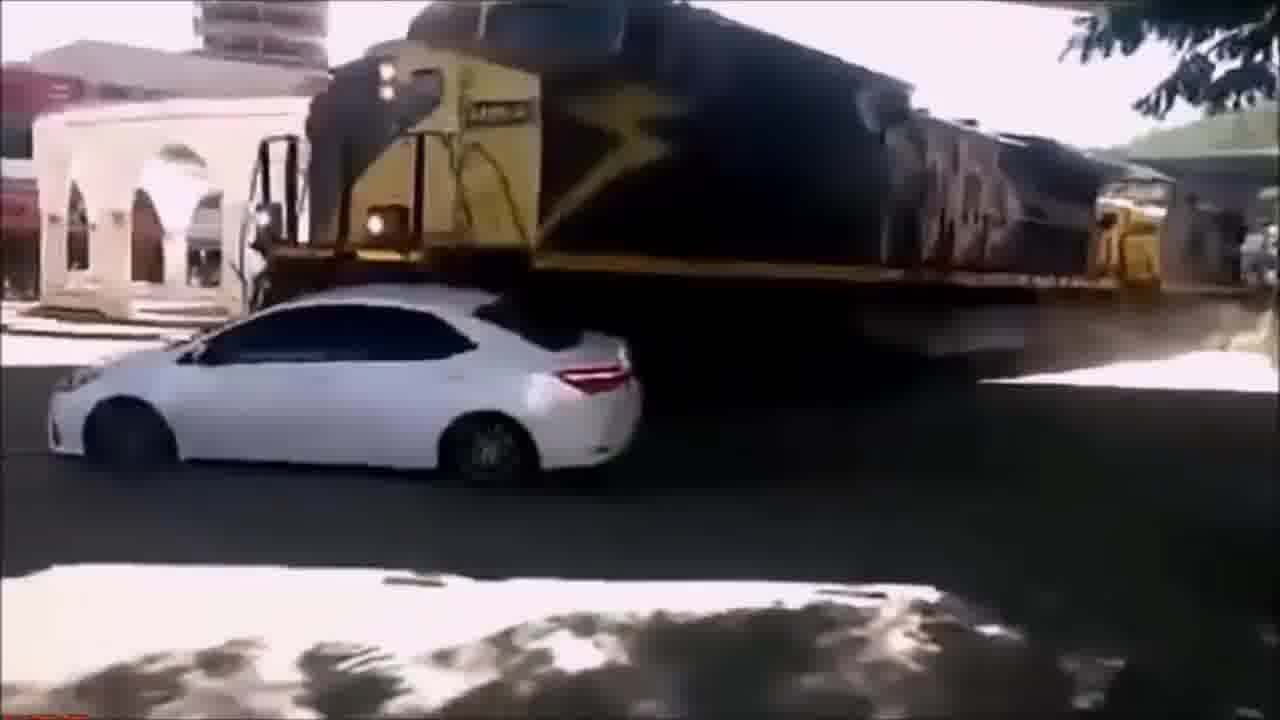crossing railway track: (33, 254, 712, 557)
